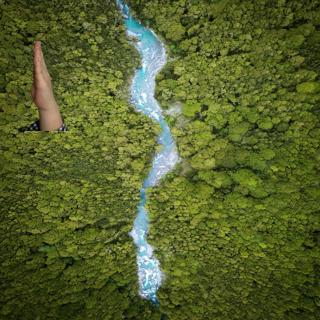RIGHT: (28, 37, 58, 116)
